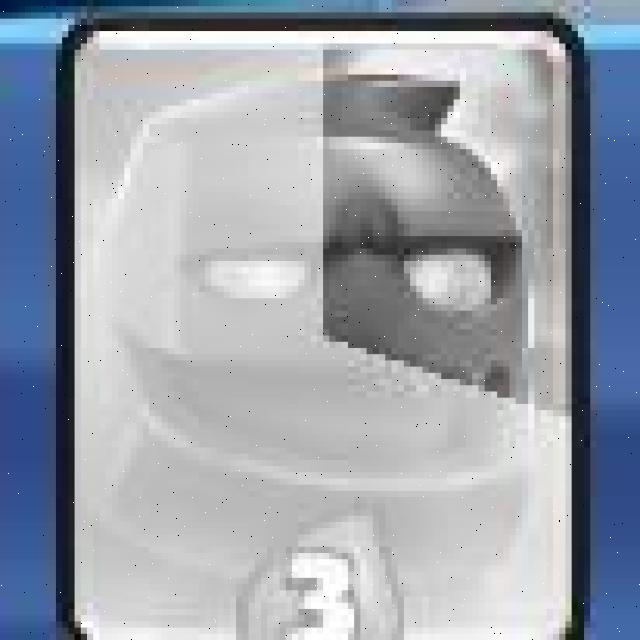Elixir_Golem: (56, 12, 588, 640)
